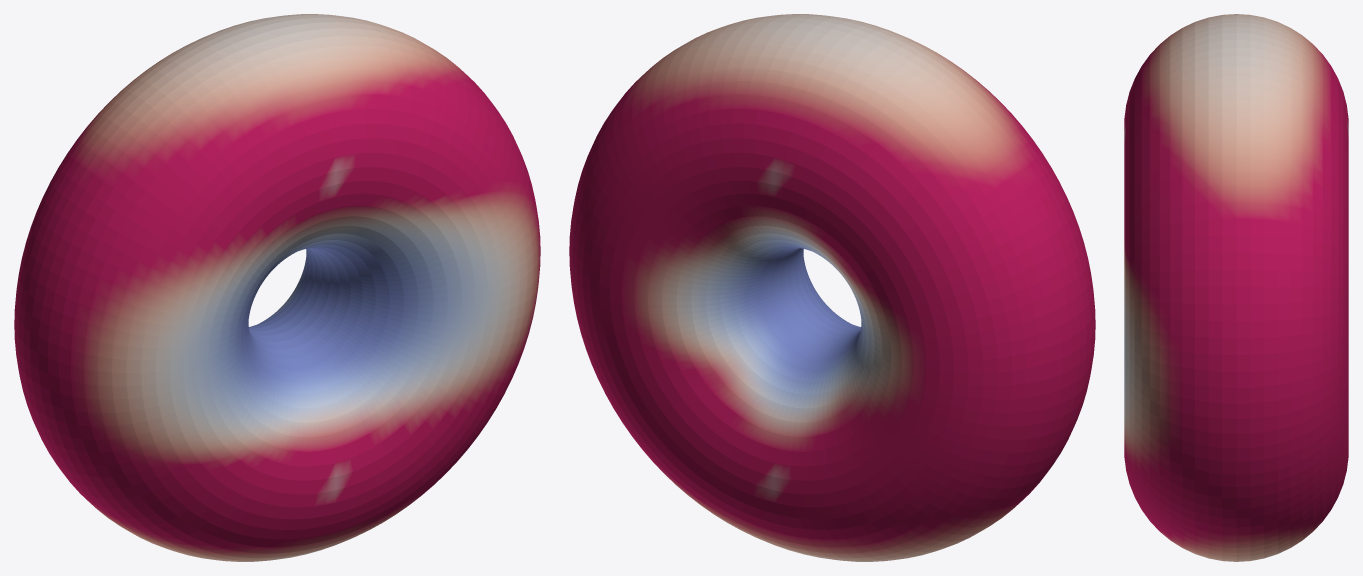
The picture shows the model from 3 angles, left to right: view 1: azimuth 30°, elevation 25°; view 2: azimuth 150°, elevation 25°; view 3: azimuth 270°, elevation 25°; orthographic projection. The views are drawn at different scales.
Parts seen in each view (by area): view 1: world; view 2: world; view 3: world.
Part boxes in pixels (left/top/right/bottom): world: left=14, top=14, right=540, bottom=561; world: left=569, top=14, right=1095, bottom=561; world: left=1124, top=14, right=1348, bottom=561.
Bounding box in the file's own units: 23.73 × 23.73 × 9.71.
